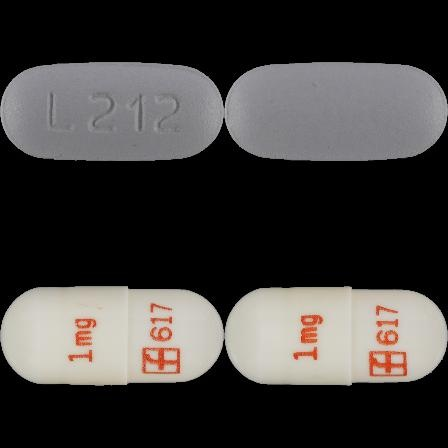43353-165: (0, 0, 224, 224)
